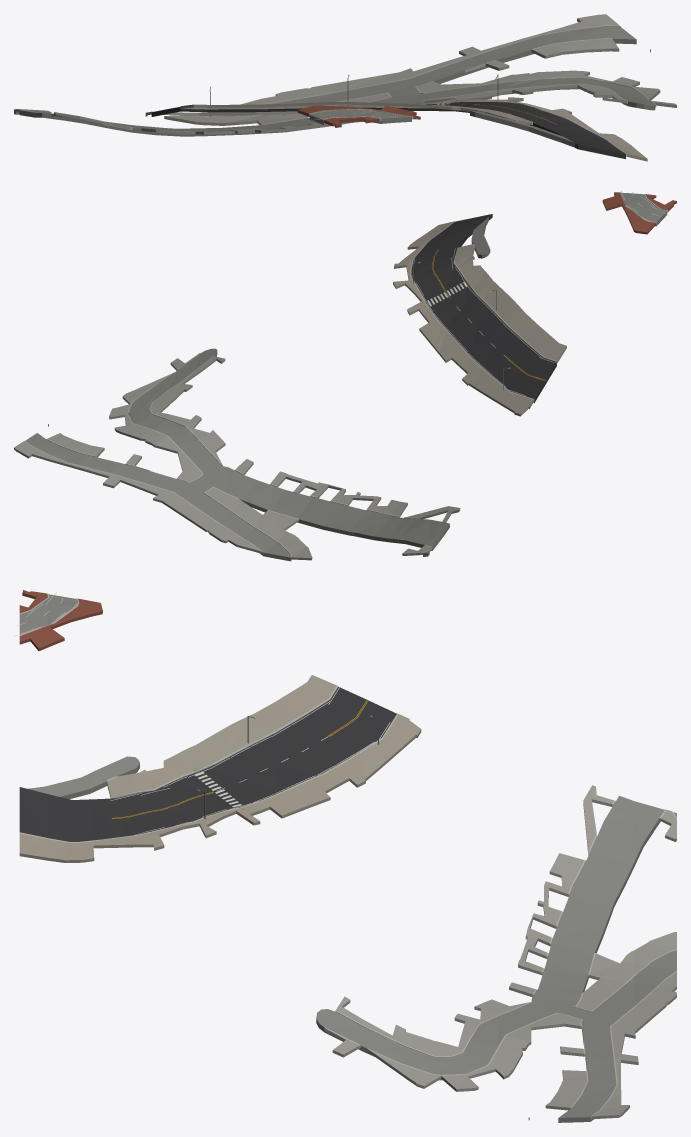
3 views of the same model, one above another, from view 1: azimuth 30°, elevation 25°; view 2: azimuth 150°, elevation 25°; view 3: azimuth 270°, elevation 25° (orthographic). The views are drawn at different scales.
Bounding box in the file's own units: 148 × 68.58 × 147.
